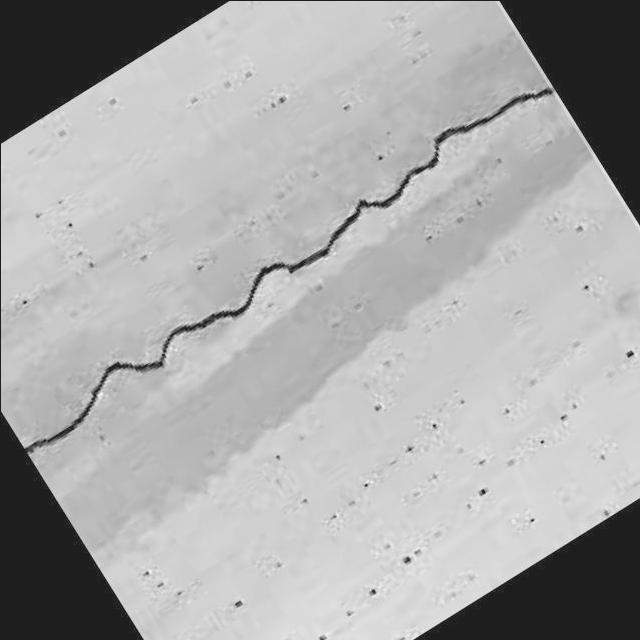defect: (23, 81, 558, 455)
